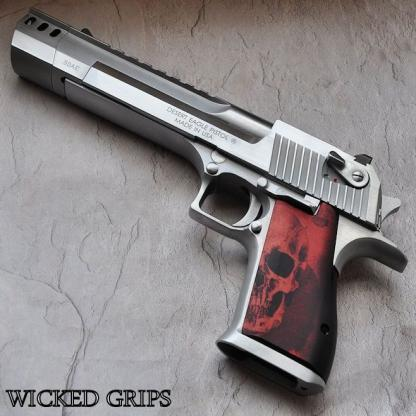Pistol: (8, 5, 408, 398)
